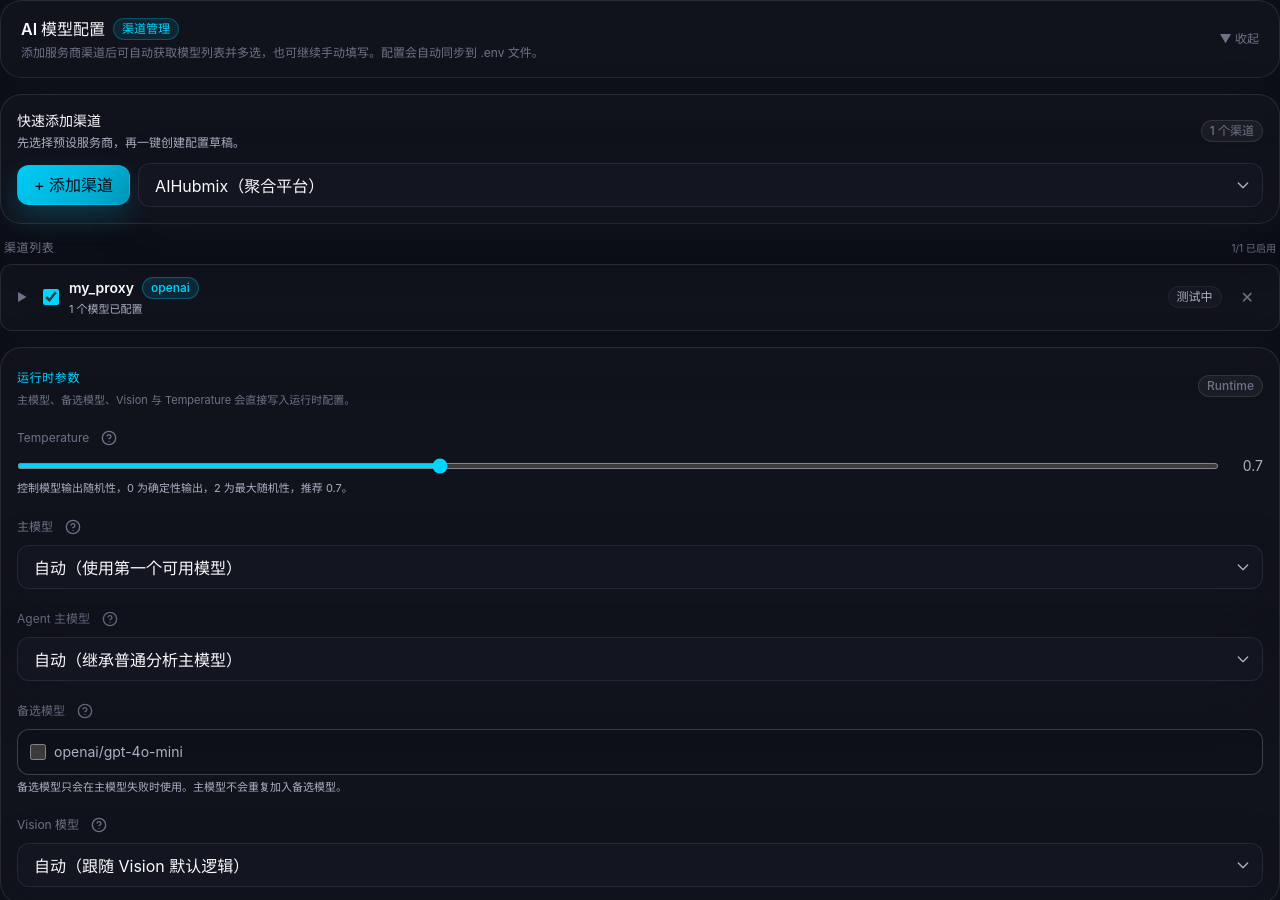
Test: LLMChannelEditor › uses runtime API_KEYS when both API_KEY and API_KEYS coexist
The width and height of the screenshot is (1280, 900).
Click the button "▶ my_proxy openai 1 个模型已配置 测试中 ✕" at (101, 288), box [1,265,1279,330]
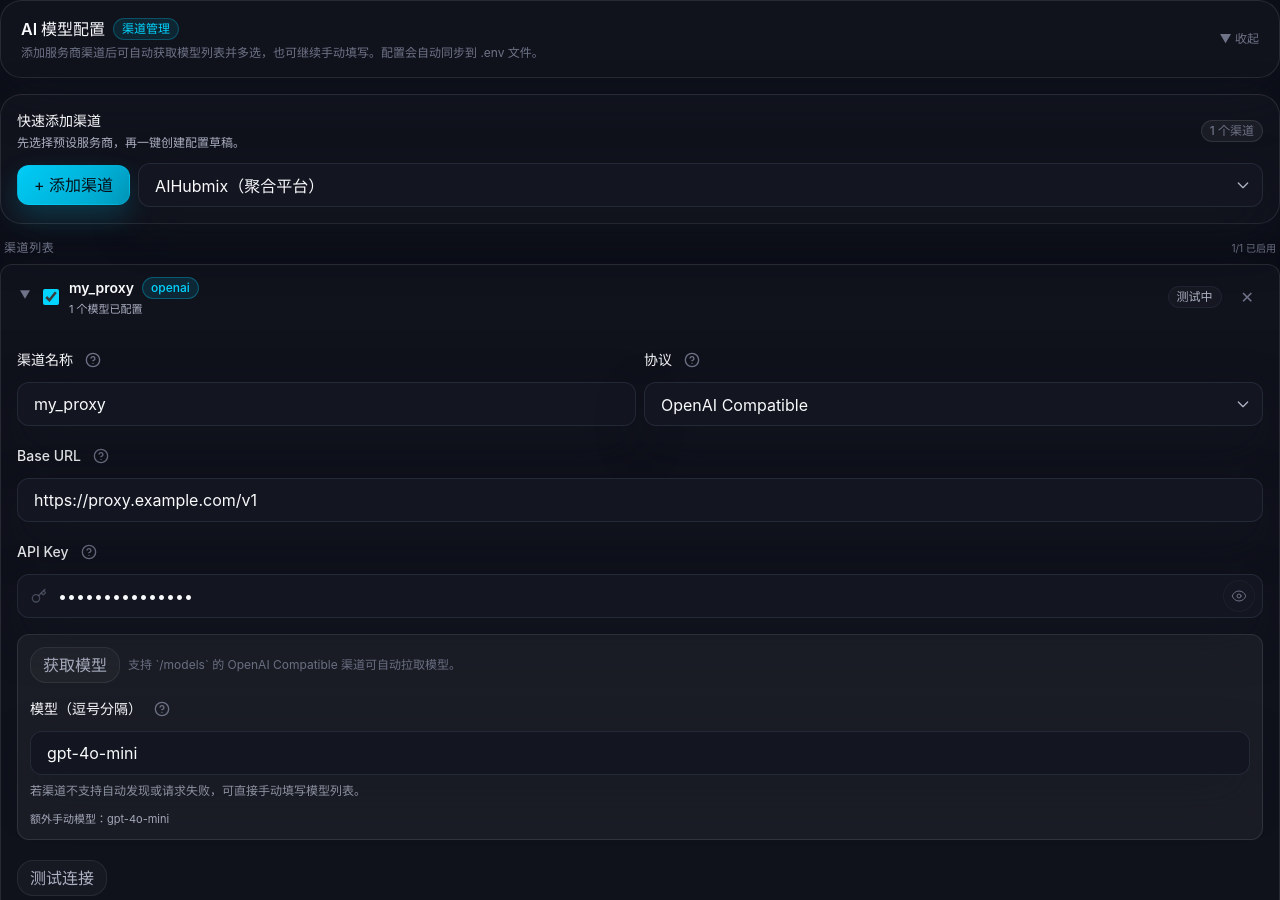
Expected: the password field labelled "API Key" holds "sk-runtime-only", [17,574,1263,618]
